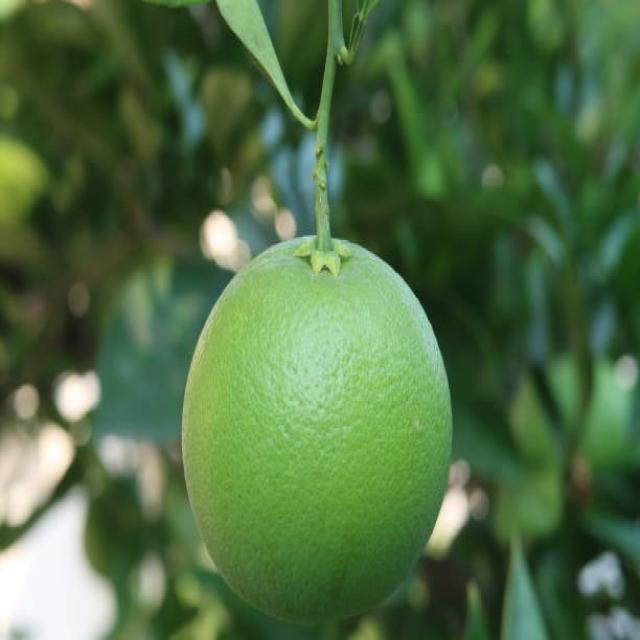Unripe: (182, 233, 455, 624)
